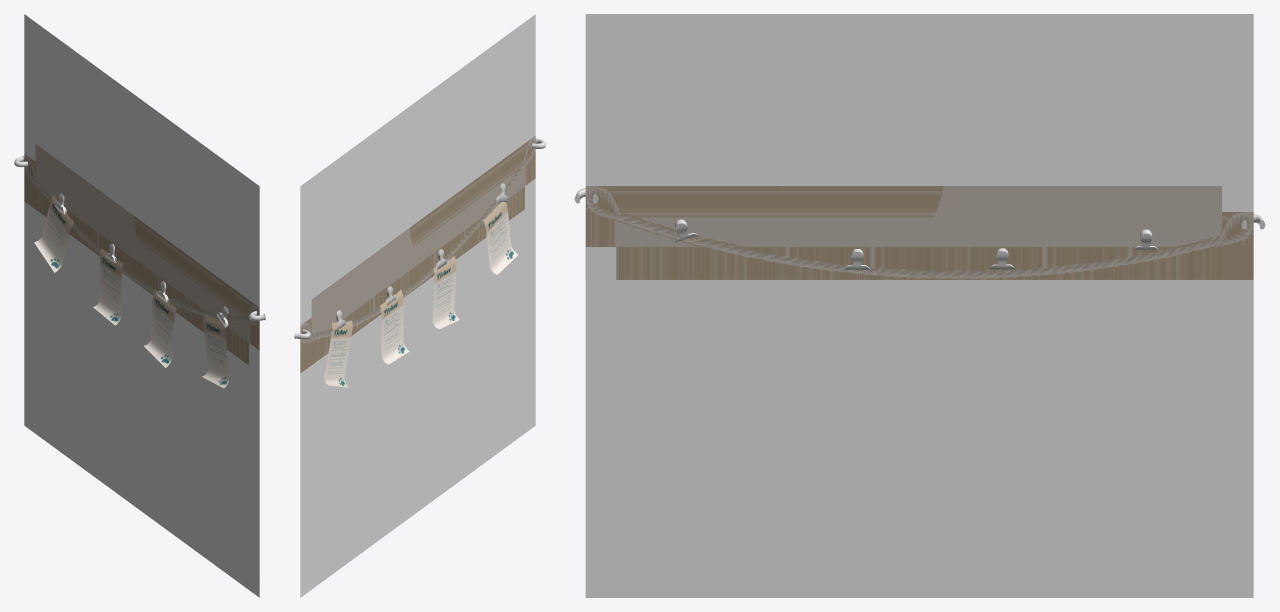
The model's file is tickets-string.FBX.
The picture shows the model from 3 angles, left to right: view 1: azimuth 30°, elevation 25°; view 2: azimuth 150°, elevation 25°; view 3: azimuth 270°, elevation 25°; orthographic projection. The views are drawn at different scales.
Parts seen in each view (by area): view 1: String, Ticket (×4); view 2: String, Ticket (×4); view 3: String.
Boxes of the visible parts, x1,y1,x2,y2 form: String: (24, 14, 259, 597); Ticket (×4): (34, 194, 229, 388); String: (300, 14, 535, 597); Ticket (×4): (324, 202, 517, 387); String: (585, 14, 1253, 597).
Size of the model in its own units: 4.01 by 115 by 123.
